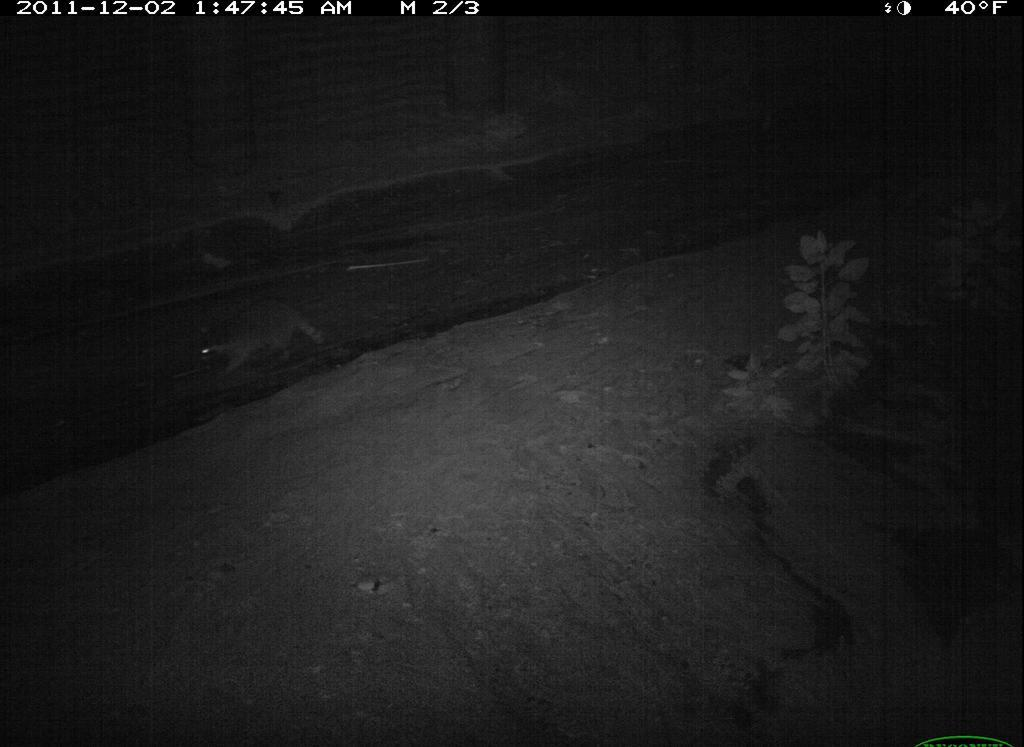raccoon: (187, 286, 329, 385)
